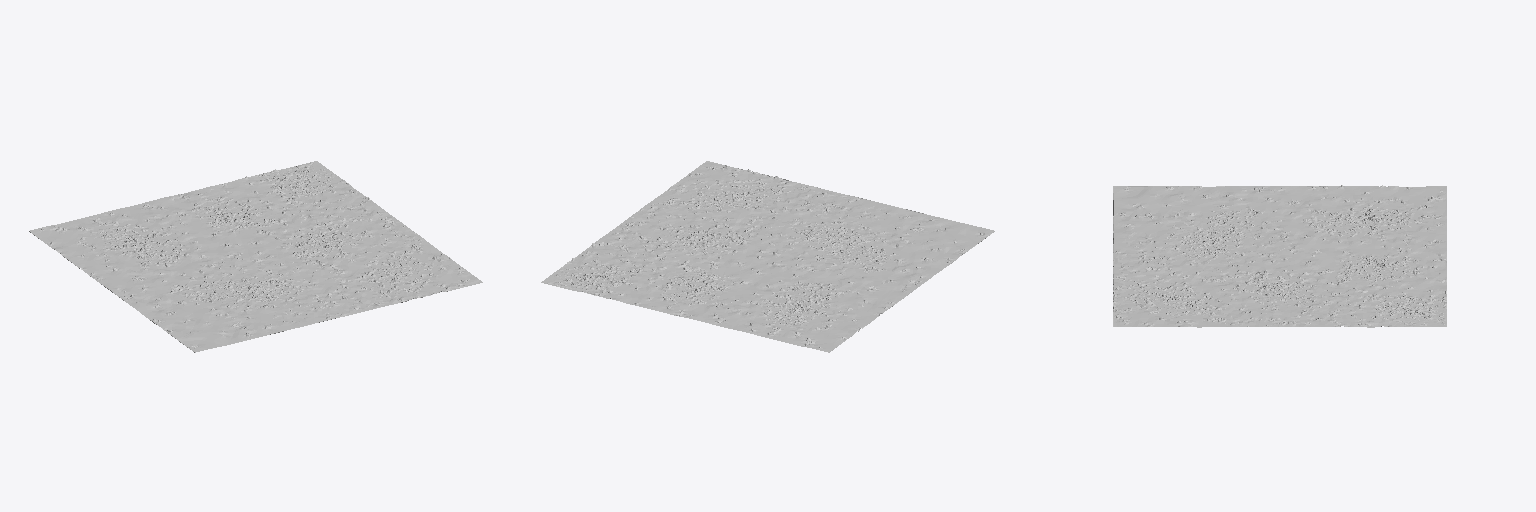
File: pebbles_mesh.OBJ
3 renders of one model, left to right at view 1: azimuth 30°, elevation 25°; view 2: azimuth 150°, elevation 25°; view 3: azimuth 270°, elevation 25°, orthographic.
Visible parts, largest first — view 1: Group61627; view 2: Group61627; view 3: Group61627.
Boxes of the visible parts, x1=… form: Group61627: x1=29, y1=161, x2=482, y2=352; Group61627: x1=541, y1=161, x2=994, y2=352; Group61627: x1=1113, y1=185, x2=1446, y2=327.
Size of the model in its own units: 1 by 0.0112 by 1.